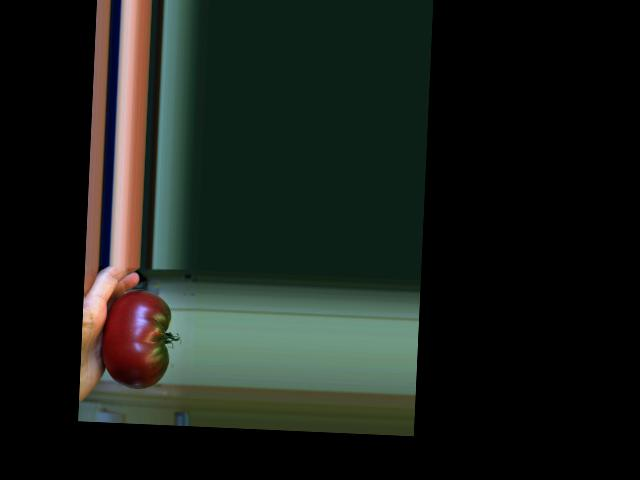tomato: (100, 289, 172, 390)
